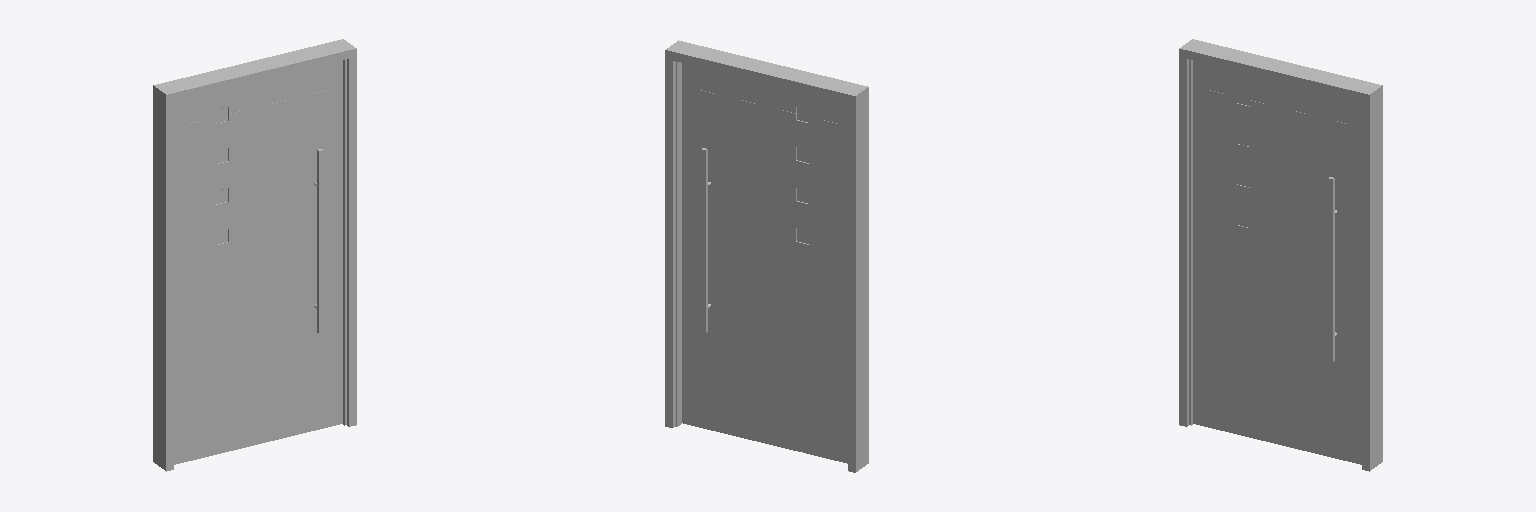
File: door_001.obj
3 renders of one model, left to right at view 1: azimuth 30°, elevation 25°; view 2: azimuth 150°, elevation 25°; view 3: azimuth 330°, elevation 25°, orthographic.
Parts seen in each view (by area): view 1: door door_main3 rotate, frame_001 door, door rotate door_rotate_handle_001; view 2: door door_main3 rotate, frame_001 door, door rotate door_rotate_handle_001; view 3: door door_main3 rotate, frame_001 door, door rotate door_rotate_handle_001.
Part boxes in pixels (left/top/right/bottom): door door_main3 rotate: left=174, top=61, right=342, bottom=464; frame_001 door: left=153, top=39, right=356, bottom=471; door rotate door_rotate_handle_001: left=314, top=149, right=323, bottom=332; door door_main3 rotate: left=682, top=63, right=847, bottom=463; frame_001 door: left=665, top=40, right=868, bottom=472; door rotate door_rotate_handle_001: left=701, top=148, right=710, bottom=332; door door_main3 rotate: left=1193, top=61, right=1361, bottom=464; frame_001 door: left=1179, top=39, right=1382, bottom=471; door rotate door_rotate_handle_001: left=1328, top=177, right=1336, bottom=361.
Bounding box in the file's own units: 109 × 207 × 14.93.